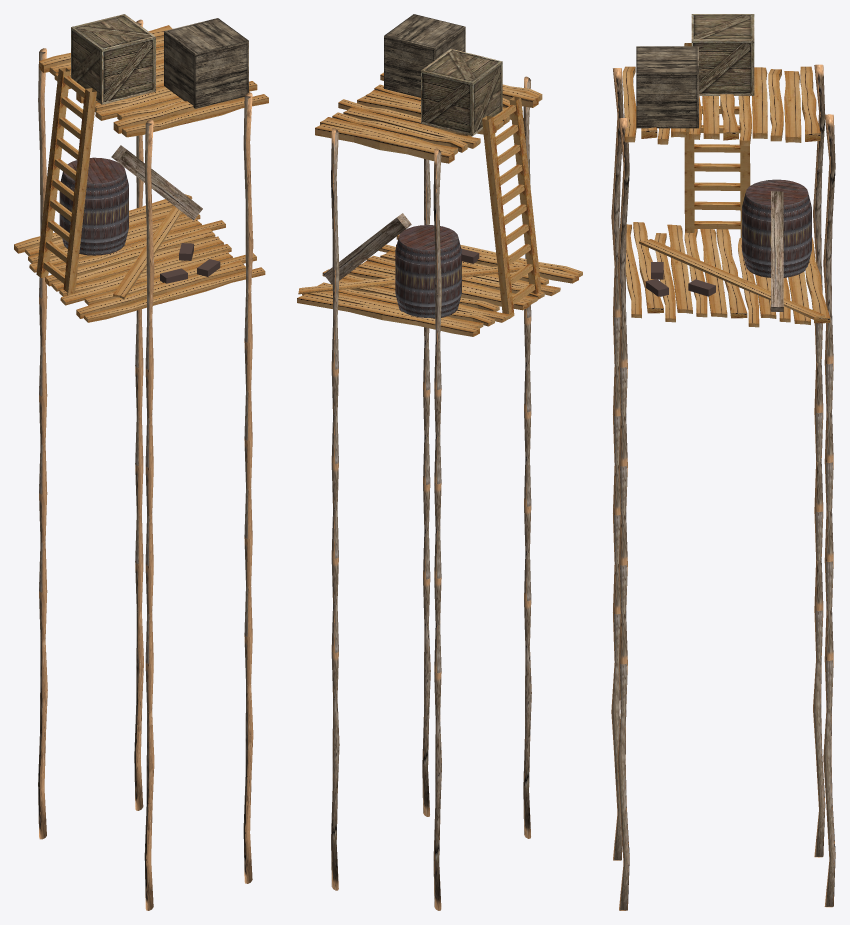
Rendered from impalcatura2.obj.
3 views of the same model, side by side, from view 1: azimuth 30°, elevation 25°; view 2: azimuth 150°, elevation 25°; view 3: azimuth 270°, elevation 25° (orthographic). The views are drawn at different scales.
Visible parts, largest first — view 1: impalcatura2_Cylinder.001; view 2: impalcatura2_Cylinder.001; view 3: impalcatura2_Cylinder.001.
Part boxes in pixels (x1,y1,x2,y2): impalcatura2_Cylinder.001: (14,14,268,910); impalcatura2_Cylinder.001: (297,14,582,910); impalcatura2_Cylinder.001: (611,14,835,910).
Bounding box in the file's own units: 5.55 × 21.73 × 5.24.
